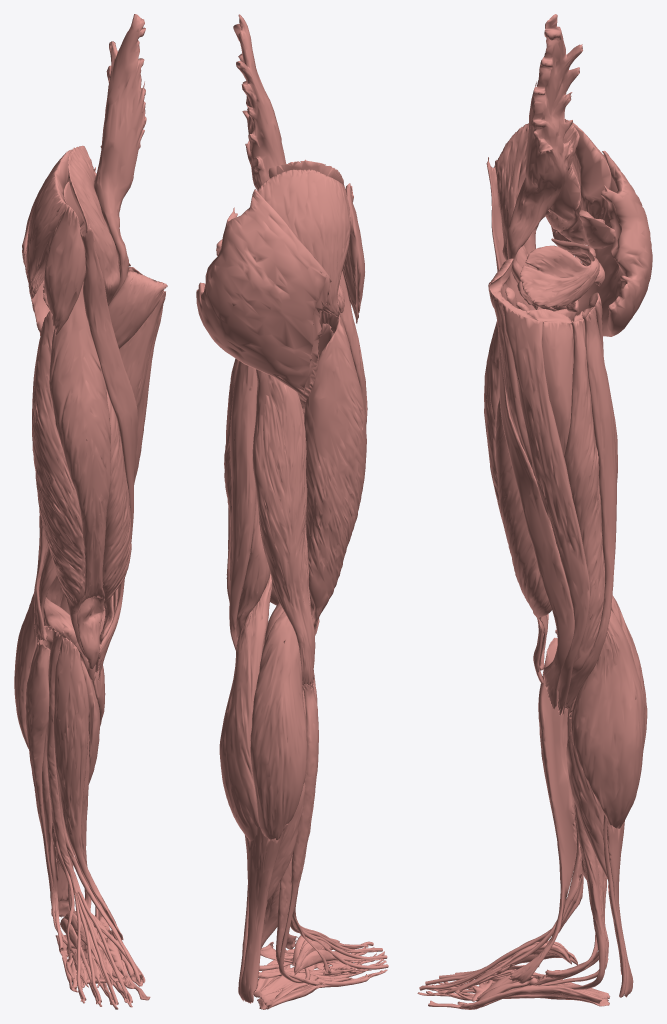
Rendered from muscular.glb.
The picture shows the model from 3 angles, left to right: view 1: azimuth 30°, elevation 25°; view 2: azimuth 150°, elevation 25°; view 3: azimuth 270°, elevation 25°; orthographic projection. The views are drawn at different scales.
Visible parts, largest first — view 1: Rectus femoris muscle.r.001, Vastus lateralis muscle.r.001, Psoas major.r.001, Tibialis anterior muscle.r.001, Sartorius muscle.r.001, Vastus medialis muscle.r.001, Tensor fasciae latae.r.001, Fibularis longus muscle.r.001, Iliacus muscle.r.001, Gluteus medius muscle.r.001, Pectineus muscle.r.001, Extensor digitorum longus.r.001 (+19 smaller); view 2: Gluteus maximus muscle.r.001, Vastus lateralis muscle.r.001, Long head of biceps femoris.r.001, Lateral head of gastrocnemius.r.001, Medial head of gastrocnemius.r.001, Gluteus medius muscle.r.001, Semitendinosus muscle.r.001, Psoas major.r.001, Calcaneal tendon.r.001, Fibularis longus muscle.r.001, Semimembranosus muscle.r.001, Tensor fasciae latae.r.001 (+11 smaller); view 3: Medial head of gastrocnemius.r.001, Gracilis muscle.r.001, Psoas major.r.001, Semimembranosus muscle.r.001, Sartorius muscle.r.001, Gluteus maximus muscle.r.001, Semitendinosus muscle.r.001, Tibialis anterior muscle.r.001, Vastus medialis muscle.r.001, Obturator internus.r.001, Adductor magnus.r.001, Iliacus muscle.r.001 (+18 smaller).
Boxes of the visible parts, bbox=[...] form: Rectus femoris muscle.r.001: bbox=[49, 281, 111, 669]; Vastus lateralis muscle.r.001: bbox=[32, 311, 85, 657]; Psoas major.r.001: bbox=[94, 14, 146, 303]; Tibialis anterior muscle.r.001: bbox=[53, 637, 123, 939]; Sartorius muscle.r.001: bbox=[80, 224, 137, 679]; Vastus medialis muscle.r.001: bbox=[102, 389, 131, 602]; Tensor fasciae latae.r.001: bbox=[44, 205, 85, 335]; Fibularis longus muscle.r.001: bbox=[25, 639, 103, 948]; Iliacus muscle.r.001: bbox=[68, 145, 120, 305]; Gluteus medius muscle.r.001: bbox=[26, 149, 72, 300]; Pectineus muscle.r.001: bbox=[108, 271, 167, 348]; Extensor digitorum longus.r.001: bbox=[46, 630, 80, 893]; Gluteus maximus muscle.r.001: bbox=[196, 189, 331, 399]; Vastus lateralis muscle.r.001: bbox=[304, 313, 366, 631]; Long head of biceps femoris.r.001: bbox=[252, 369, 315, 685]; Lateral head of gastrocnemius.r.001: bbox=[250, 611, 306, 840]; Medial head of gastrocnemius.r.001: bbox=[219, 573, 272, 841]; Gluteus medius muscle.r.001: bbox=[257, 169, 350, 317]; Semitendinosus muscle.r.001: bbox=[229, 361, 257, 650]; Psoas major.r.001: bbox=[233, 14, 286, 190]; Calcaneal tendon.r.001: bbox=[240, 824, 288, 1003]; Fibularis longus muscle.r.001: bbox=[279, 681, 318, 983]; Semimembranosus muscle.r.001: bbox=[224, 358, 270, 638]; Tensor fasciae latae.r.001: bbox=[342, 183, 364, 323]; Medial head of gastrocnemius.r.001: bbox=[571, 610, 644, 828]; Gracilis muscle.r.001: bbox=[501, 296, 590, 715]; Psoas major.r.001: bbox=[506, 14, 582, 310]; Semimembranosus muscle.r.001: bbox=[564, 311, 604, 678]; Sartorius muscle.r.001: bbox=[486, 157, 574, 709]; Gluteus maximus muscle.r.001: bbox=[573, 150, 652, 336]; Semitendinosus muscle.r.001: bbox=[565, 306, 616, 708]; Tibialis anterior muscle.r.001: bbox=[505, 637, 577, 983]; Vastus medialis muscle.r.001: bbox=[495, 306, 551, 667]; Obturator internus.r.001: bbox=[520, 245, 599, 307]; Adductor magnus.r.001: bbox=[526, 309, 576, 478]; Iliacus muscle.r.001: bbox=[495, 119, 579, 311].
Bounding box in the file's own units: 0.1576 × 1.15 × 0.2403.
